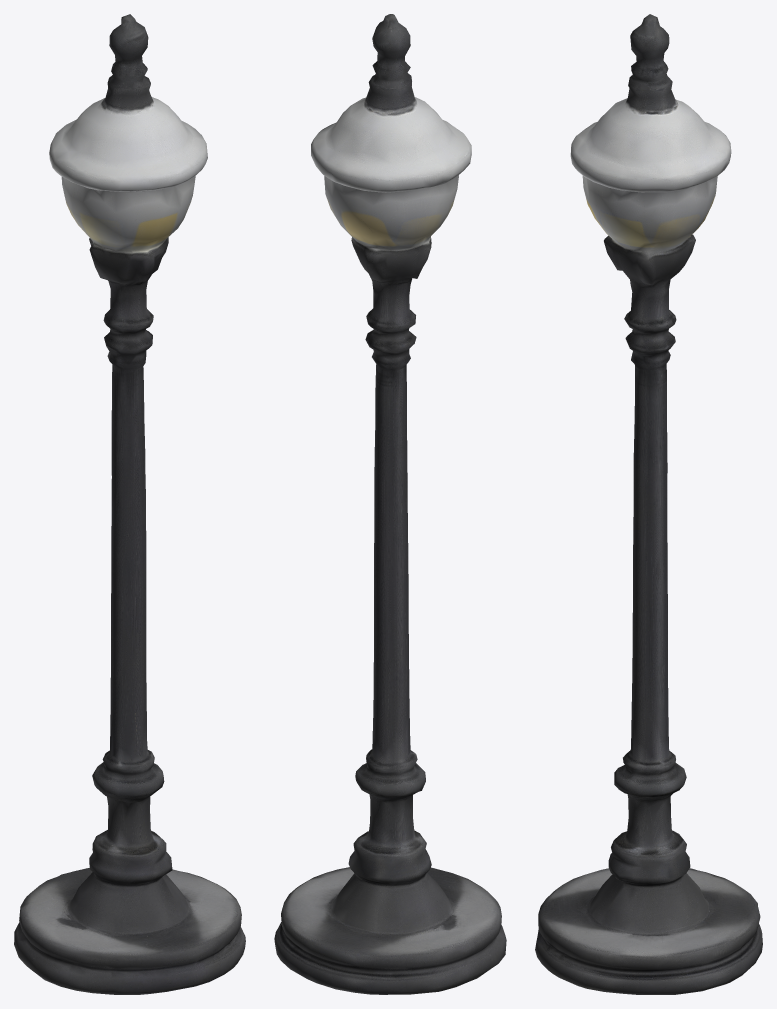
File: lamp_nyc.glb
3 renders of one model, left to right at view 1: azimuth 30°, elevation 25°; view 2: azimuth 150°, elevation 25°; view 3: azimuth 270°, elevation 25°, orthographic.
Size of the model in its own units: 0.441 by 2 by 0.4415.
1 material, 1 textured.
